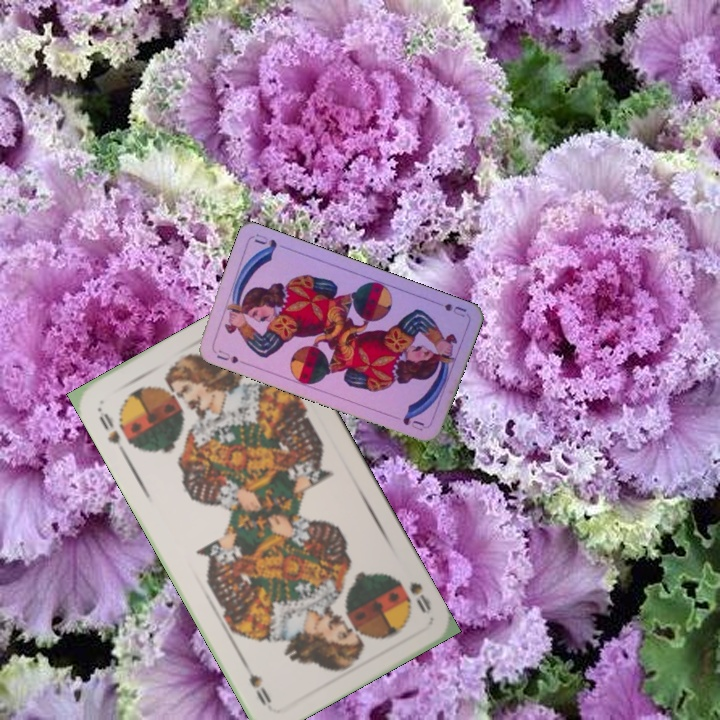SO: (95, 409, 129, 458), (405, 577, 434, 617)
SU: (210, 346, 249, 367), (440, 299, 469, 320)
